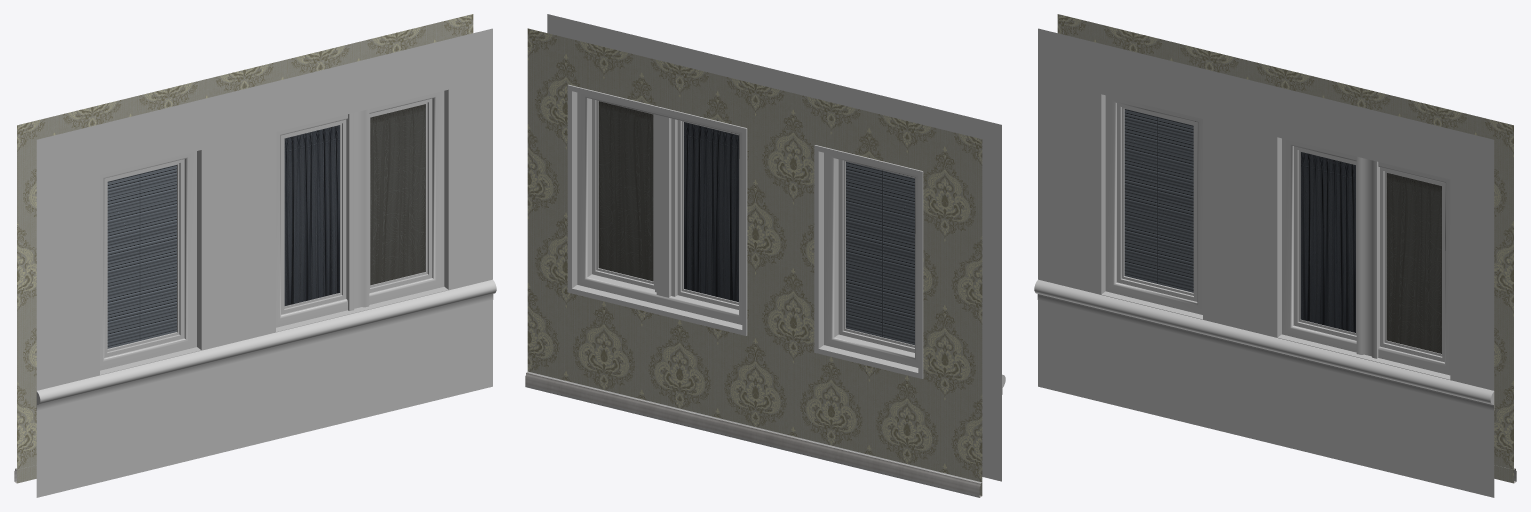
File: House_05_Window_07.fbx
3 renders of one model, left to right at view 1: azimuth 30°, elevation 25°; view 2: azimuth 150°, elevation 25°; view 3: azimuth 330°, elevation 25°, orthographic.
Visible parts, largest first — view 1: House_05_Window_07_LOD0; view 2: House_05_Window_07_LOD0; view 3: House_05_Window_07_LOD0.
Part boxes in pixels (x1,y1,x2,y2): House_05_Window_07_LOD0: [14, 14, 496, 497]; House_05_Window_07_LOD0: [525, 14, 1005, 497]; House_05_Window_07_LOD0: [1034, 14, 1516, 497].
Size of what is drawn, in the model's own units: 400 by 300 by 39.57.
